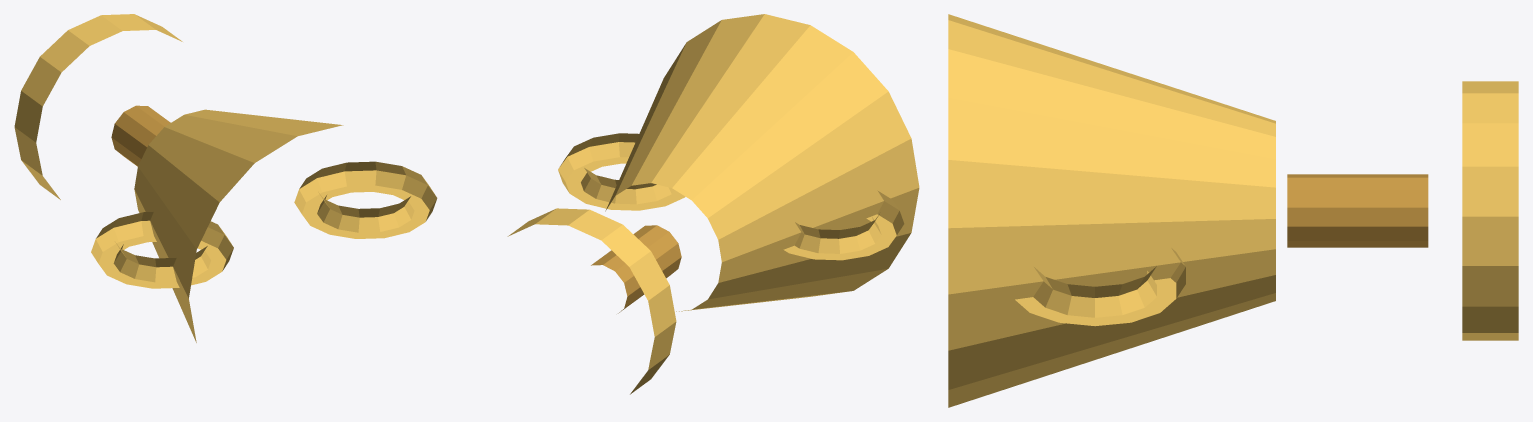
Rendered from home_stats_trophy.glb.
3 views of the same model, side by side, from view 1: azimuth 30°, elevation 25°; view 2: azimuth 150°, elevation 25°; view 3: azimuth 270°, elevation 25° (orthographic). The views are drawn at different scales.
Visible parts, largest first — view 1: Cup, Right handle, Left handle, Base, Stem; view 2: Cup, Base, Right handle, Left handle, Stem; view 3: Cup, Base, Stem, Right handle.
Part boxes in pixels (x1=…): Cup: x1=134, y1=109, x2=343, y2=342; Right handle: x1=294, y1=161, x2=437, y2=238; Left handle: x1=91, y1=212, x2=233, y2=288; Base: x1=14, y1=14, x2=182, y2=199; Stem: x1=111, y1=105, x2=170, y2=166; Cup: x1=605, y1=14, x2=919, y2=311; Base: x1=507, y1=208, x2=676, y2=394; Right handle: x1=558, y1=133, x2=685, y2=210; Left handle: x1=783, y1=190, x2=904, y2=260; Stem: x1=591, y1=225, x2=681, y2=313; Cup: x1=948, y1=14, x2=1275, y2=407; Base: x1=1462, y1=81, x2=1518, y2=340; Stem: x1=1287, y1=174, x2=1428, y2=247; Right handle: x1=1015, y1=248, x2=1185, y2=326.
Bounding box in the file's own units: 0.87 × 0.6894 × 1.01.
